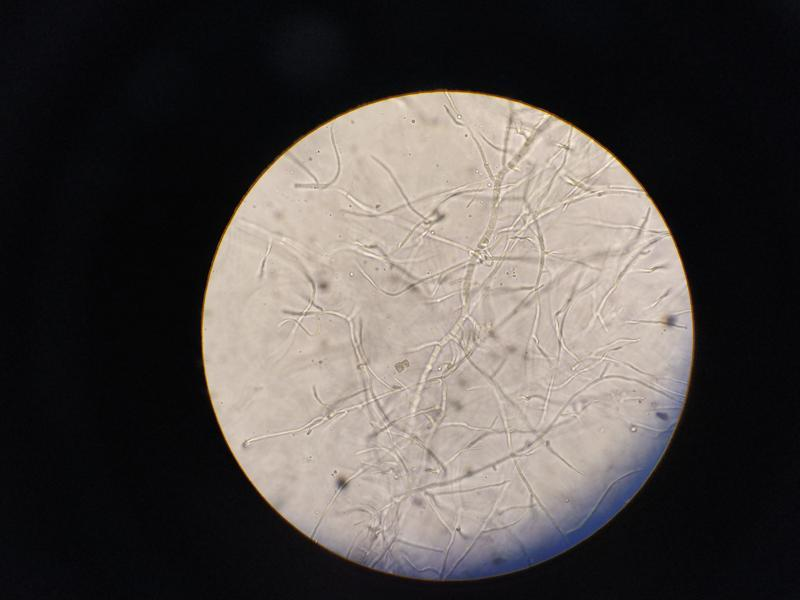fungus: (303, 165, 605, 497)
